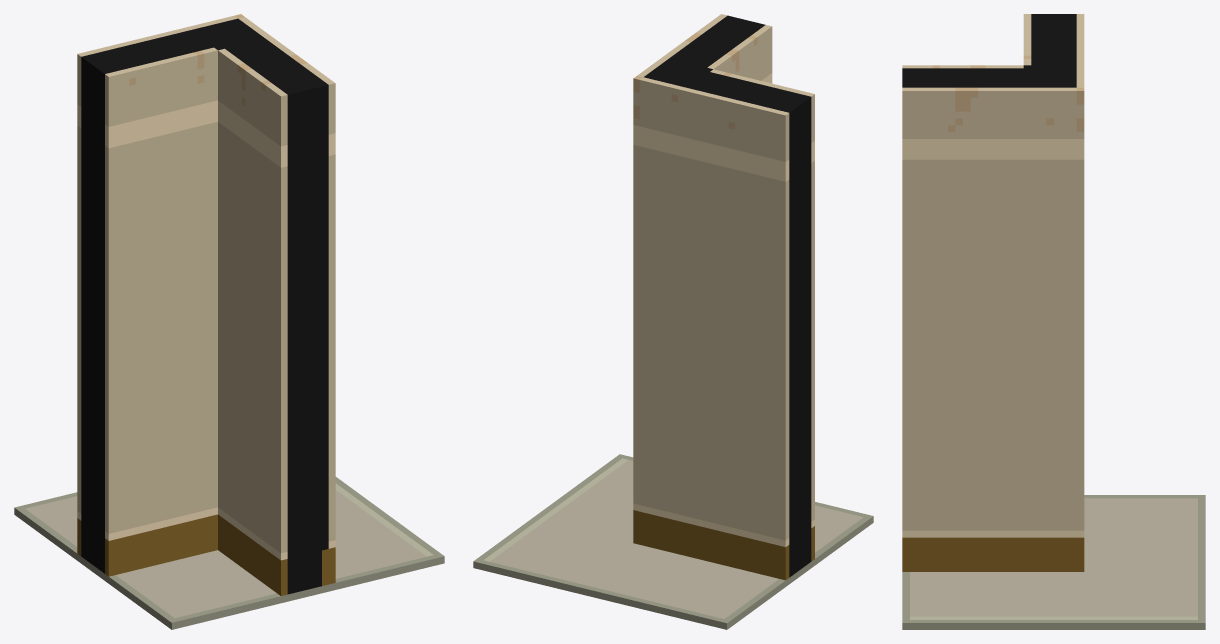
Rendered from Parede_Curva_2.obj.
The picture shows the model from 3 angles, left to right: view 1: azimuth 30°, elevation 25°; view 2: azimuth 150°, elevation 25°; view 3: azimuth 270°, elevation 25°; orthographic projection. The views are drawn at different scales.
Bounding box in the file's own units: 40 × 71 × 40.
Materials: 1 (1 with a texture image).
